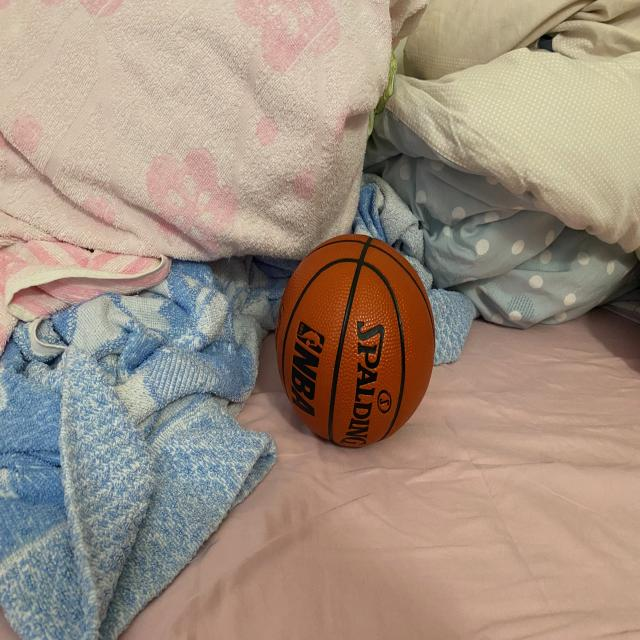Ball: (262, 210, 455, 467)
